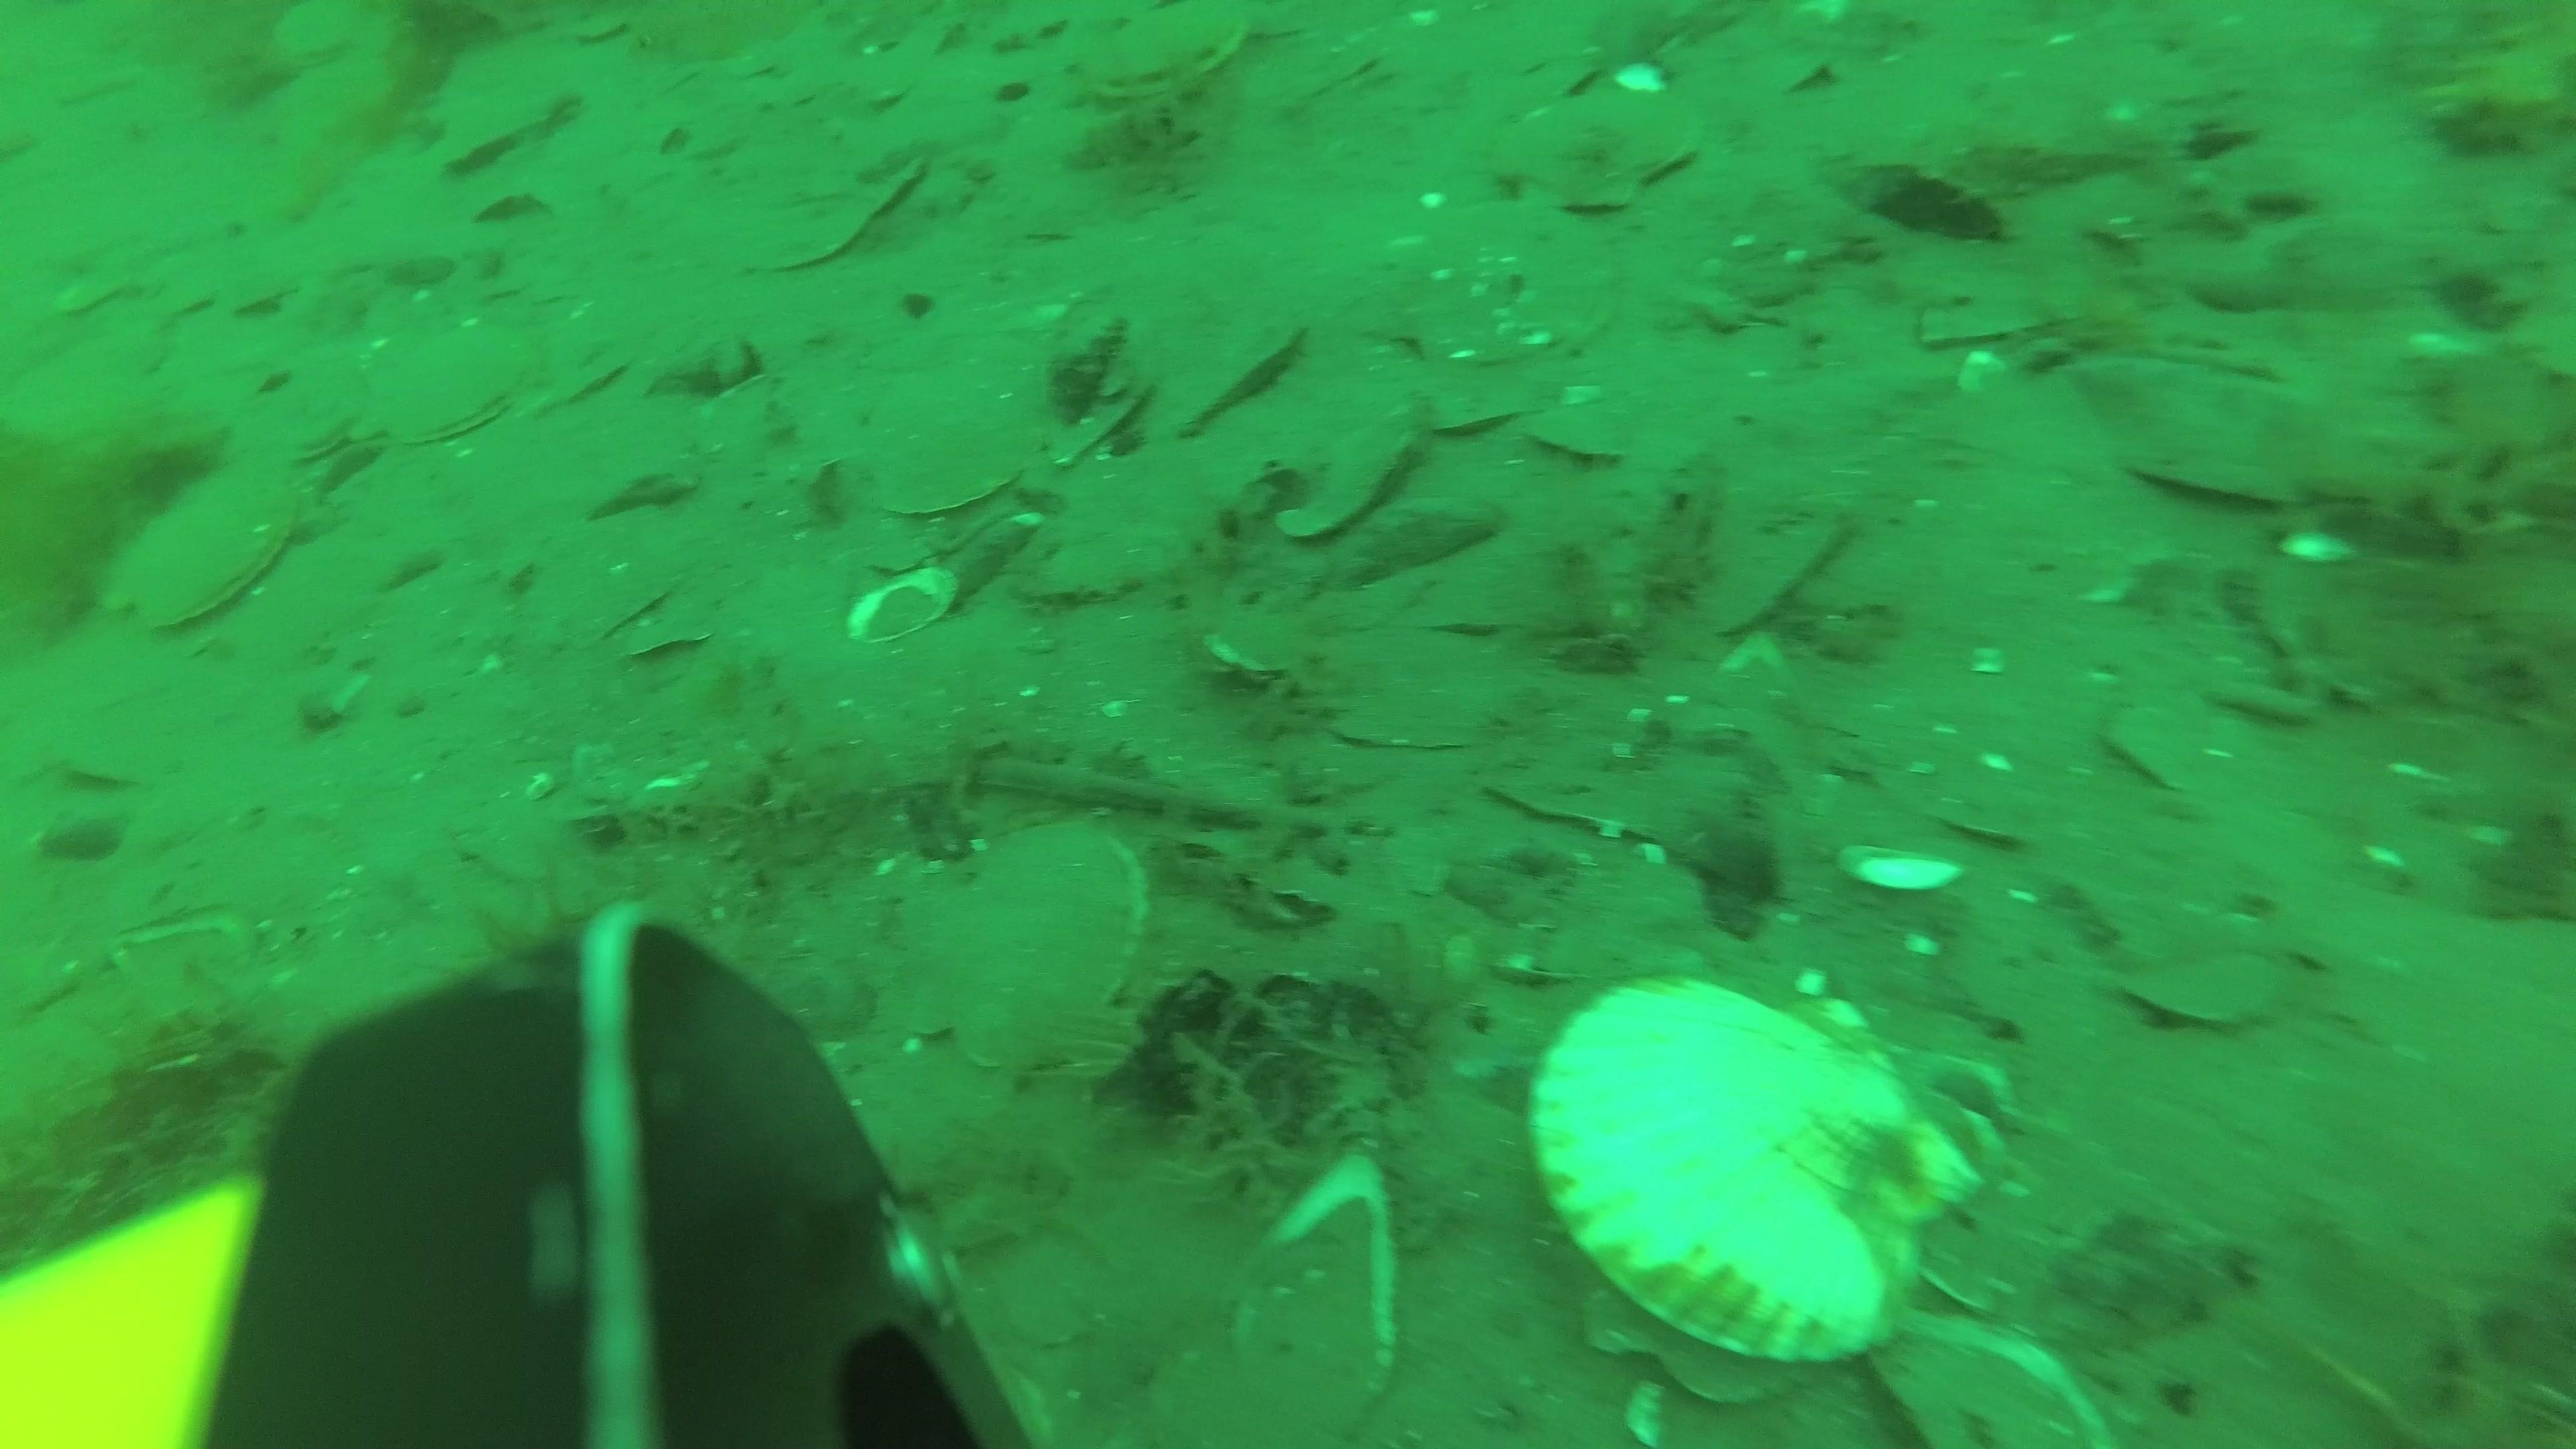scallop: (1527, 975, 1992, 1392), (893, 821, 1154, 1081), (1399, 200, 1614, 372), (108, 469, 313, 633), (858, 366, 1047, 524), (1267, 370, 1431, 547), (1500, 78, 1706, 214), (361, 320, 550, 451), (1069, 4, 1263, 111), (1155, 308, 1315, 439), (432, 76, 591, 177), (1421, 356, 1546, 439), (267, 0, 387, 74), (1520, 396, 1628, 467)
